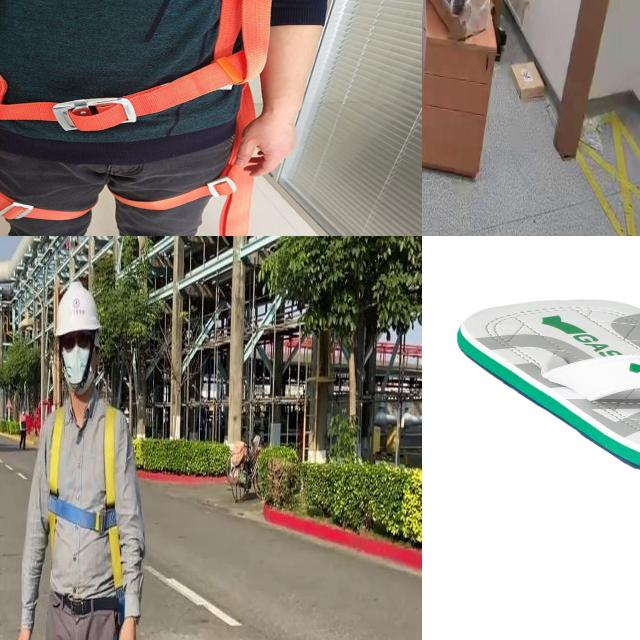Harness: (49, 406, 123, 598)
Sandals: (454, 296, 640, 504)
